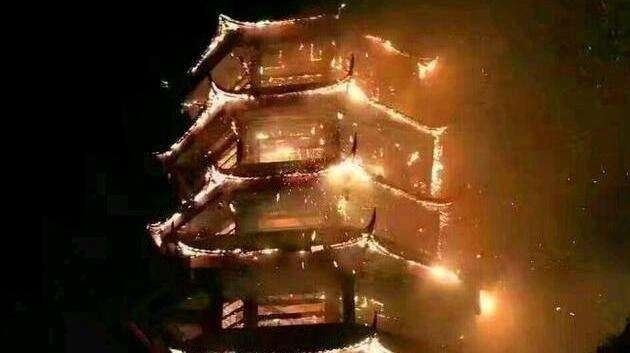fire: (154, 5, 463, 310)
